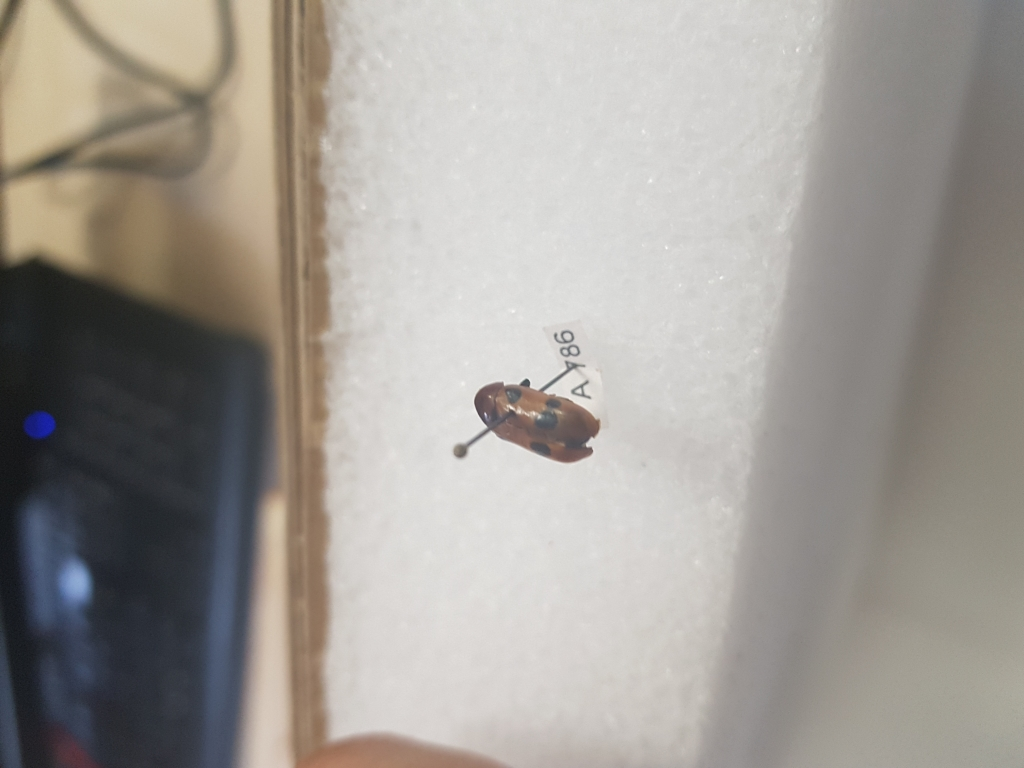Clytra_novempunctata: (470, 380, 607, 470)
